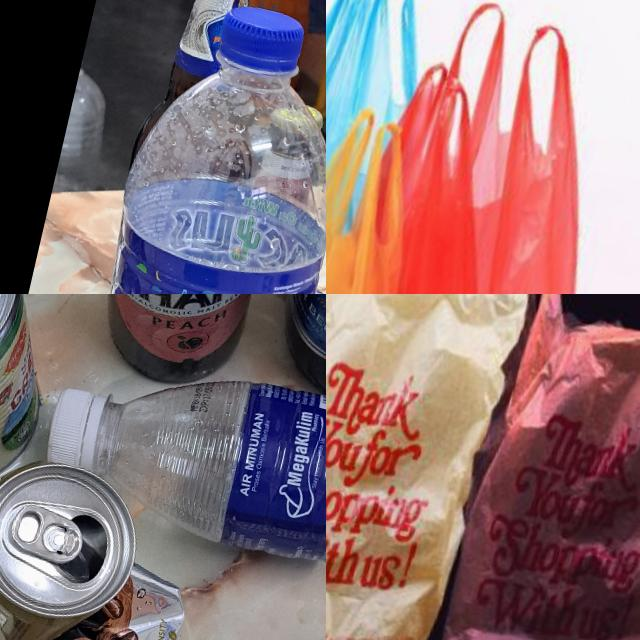aba de lata: (7, 502, 88, 567)
garrafa de vidro: (124, 0, 299, 226), (56, 294, 272, 395), (264, 294, 326, 416)
garrafa plástica: (63, 50, 326, 294), (81, 344, 326, 580), (50, 70, 118, 207)
lata: (0, 448, 215, 640), (0, 294, 82, 508)
sacola plástica: (353, 0, 640, 294), (326, 294, 557, 640), (411, 294, 640, 640), (326, 15, 566, 294), (326, 0, 442, 294), (326, 105, 440, 294)
tampa plástica: (214, 0, 308, 74), (41, 384, 109, 474)
